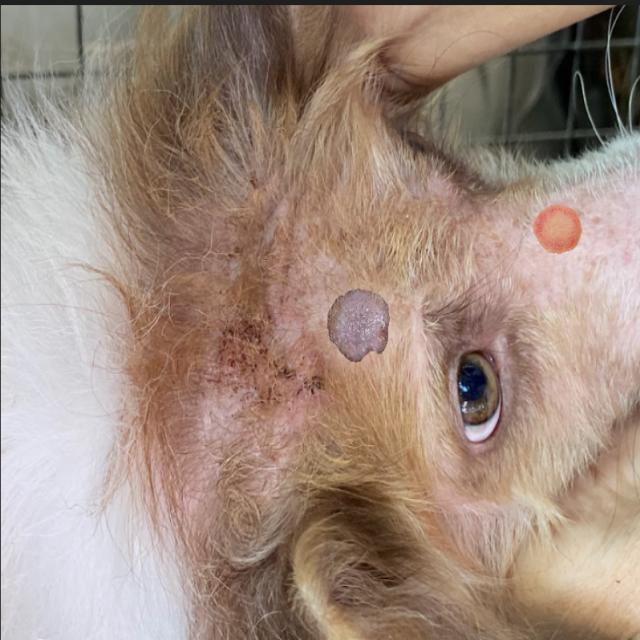ringworm: (322, 281, 397, 374), (523, 197, 597, 263)
